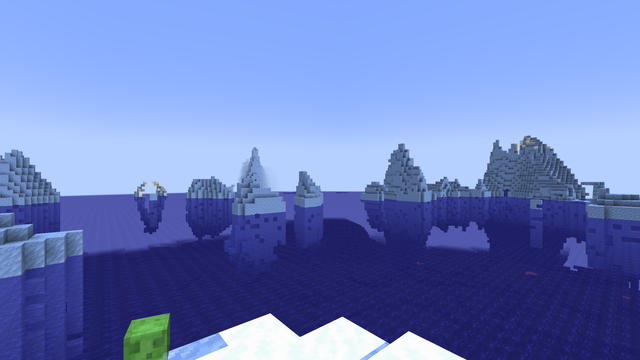slimes: (125, 310, 172, 358)
